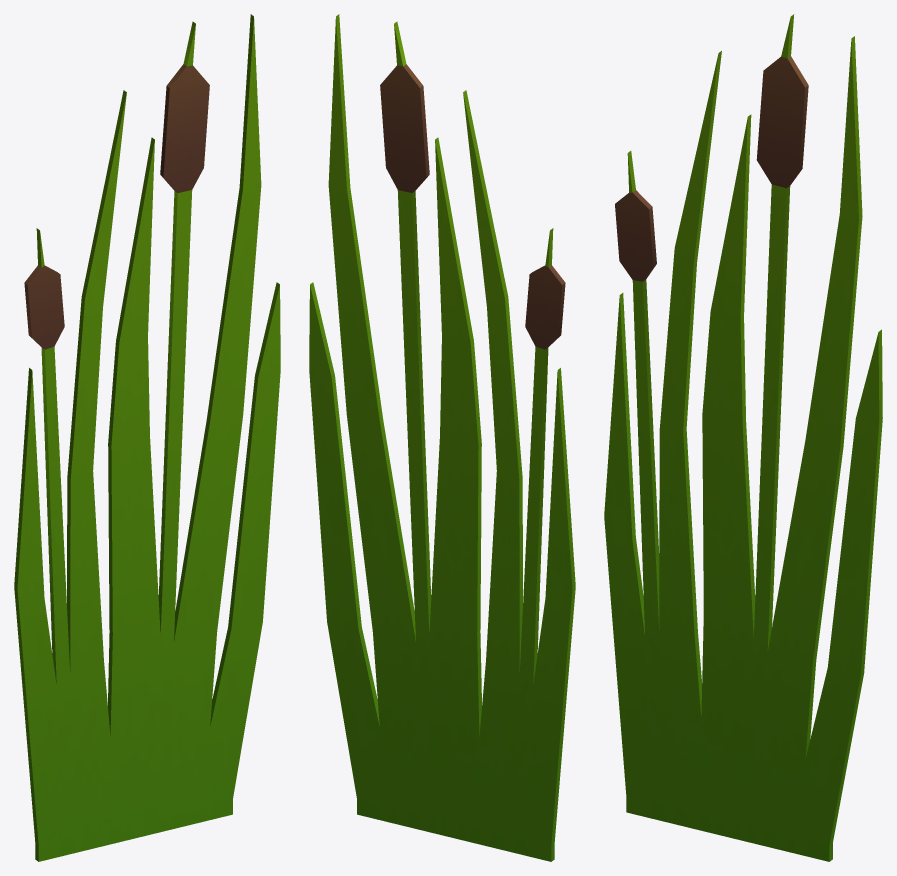
The model's file is Schilf.fbx.
The picture shows the model from 3 angles, left to right: view 1: azimuth 30°, elevation 25°; view 2: azimuth 150°, elevation 25°; view 3: azimuth 330°, elevation 25°; orthographic projection. The views are drawn at different scales.
Parts seen in each view (by area): view 1: Ebene; view 2: Ebene; view 3: Ebene.
Part boxes in pixels (<box>): Ebene: <box>14,14,280,861</box>; Ebene: <box>309,14,575,861</box>; Ebene: <box>604,14,882,861</box>.
Size of the model in its own units: 1.37 by 3.97 by 0.03.
